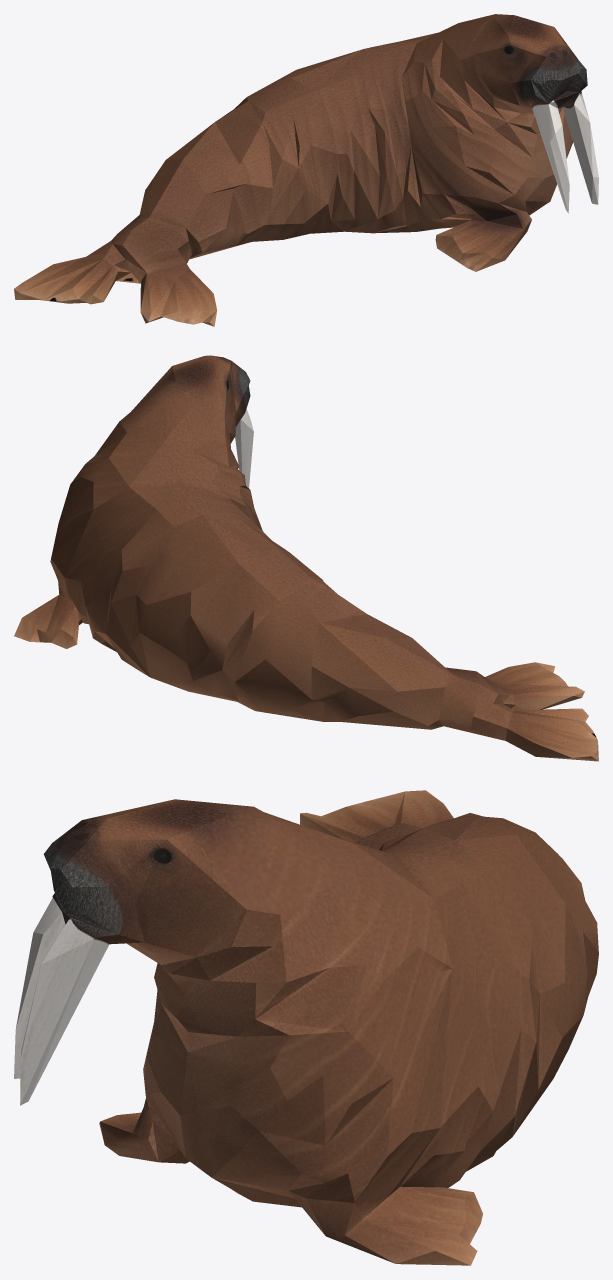
Rendered from morsa.fbx.
3 views of the same model, one above another, from view 1: azimuth 30°, elevation 25°; view 2: azimuth 150°, elevation 25°; view 3: azimuth 270°, elevation 25° (orthographic). The views are drawn at different scales.
Visible parts, largest first — view 1: morsa.001; view 2: morsa.001; view 3: morsa.001.
Part boxes in pixels (left/top/right/bottom): morsa.001: left=14, top=14, right=598, bottom=326; morsa.001: left=14, top=355, right=598, bottom=761; morsa.001: left=14, top=790, right=598, bottom=1265.
Bounding box in the file's own units: 2.8 × 1.06 × 1.48.
Materials: 1 (1 with a texture image).
